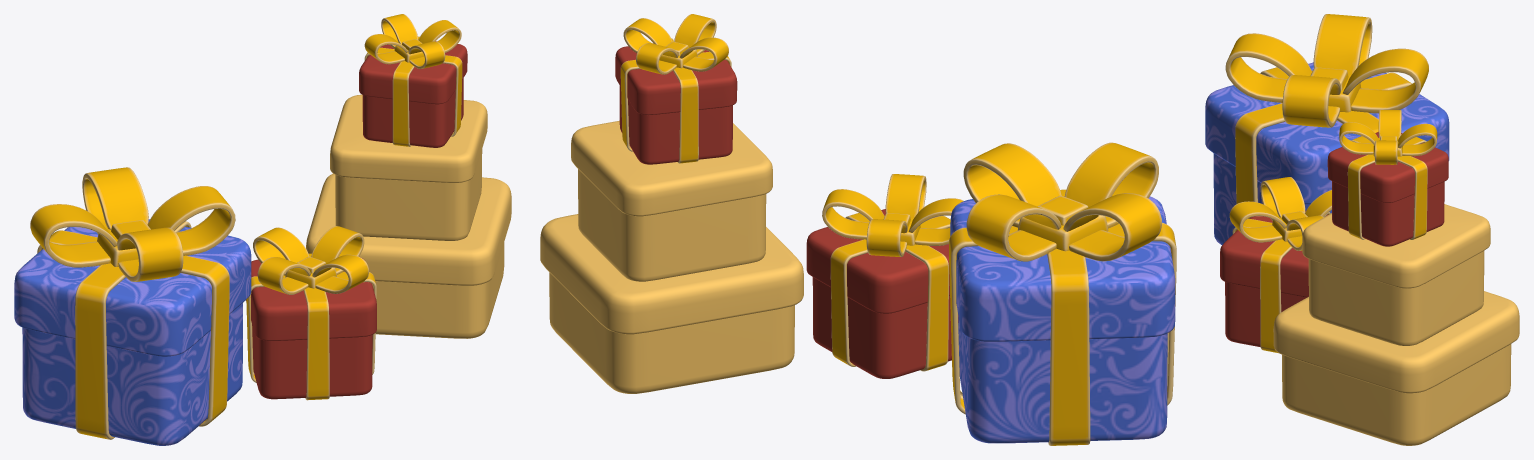
File: LiHe.fbx
The picture shows the model from 3 angles, left to right: view 1: azimuth 30°, elevation 25°; view 2: azimuth 150°, elevation 25°; view 3: azimuth 270°, elevation 25°; orthographic projection. The views are drawn at different scales.
Visible parts, largest first — view 1: LiWu07, LiWu03, LiWu08, LiWu04, LiWu09; view 2: LiWu07, LiWu04, LiWu03, LiWu08, LiWu09; view 3: LiWu07, LiWu04, LiWu08, LiWu09, LiWu03.
Part boxes in pixels (<box>): LiWu07: <box>14,167,251,445</box>; LiWu03: <box>246,226,376,400</box>; LiWu08: <box>330,94,487,240</box>; LiWu04: <box>306,173,511,338</box>; LiWu09: <box>359,14,467,147</box>; LiWu07: <box>949,142,1176,445</box>; LiWu04: <box>540,214,803,393</box>; LiWu03: <box>806,174,963,378</box>; LiWu08: <box>571,120,772,281</box>; LiWu09: <box>615,14,737,164</box>; LiWu07: <box>1205,14,1449,245</box>; LiWu04: <box>1273,291,1519,445</box>; LiWu08: <box>1302,204,1490,345</box>; LiWu09: <box>1327,110,1448,246</box>; LiWu03: <box>1220,177,1331,352</box>.
Size of the model in its own units: 145 by 73.23 by 75.49.
